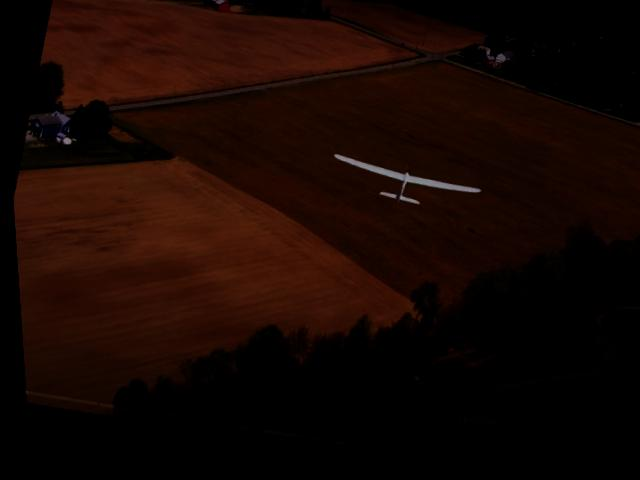plane: (321, 148, 482, 237)
